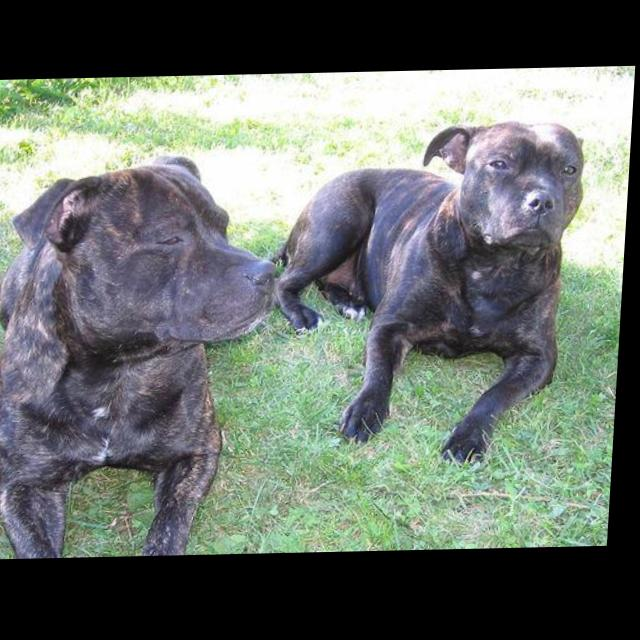staffford: (1, 154, 288, 559), (266, 122, 590, 472)
